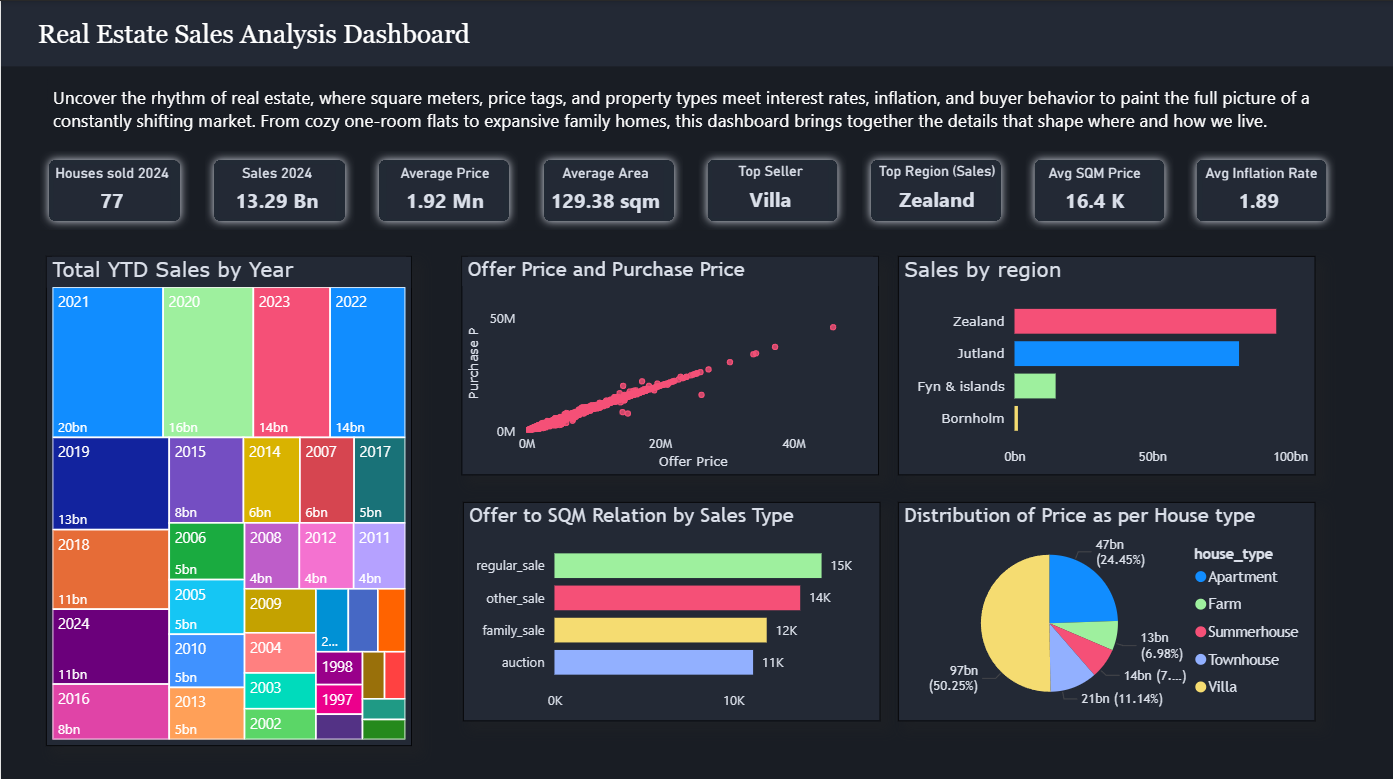

The page's visual inventory and layout, read from the dashboard file:
{"tool":"powerbi","page":{"name":"Dashboard","canvas":[1280,720],"ordinal":0},"visuals":[{"type":"scatterChart","title":"Offer Price and Purchase Price","fields":{"X":["Housing Data.Offer Price"],"Y":["Housing Data.purchase_price"]},"box":[422.5,234.7,383.1,201.4],"z":0},{"type":"shape","box":[0,0,1280,60],"z":2000},{"type":"textbox","box":[42.4,71.2,1197.7,66.6],"z":3000},{"type":"shape","box":[36.3,137.8,1196,72.7],"z":4000},{"type":"shape","box":[36.3,137.8,151,72.7],"z":5000},{"type":"shape","box":[187.8,137.8,151,72.7],"z":6000},{"type":"shape","box":[339.2,137.8,149.9,72.7],"z":7000},{"type":"shape","box":[490.6,137.8,149.9,72.7],"z":8000},{"type":"shape","box":[640.5,137.8,149.9,72.7],"z":9000},{"type":"shape","box":[790.4,137.8,149.9,72.7],"z":10000},{"type":"shape","box":[940.3,137.8,149.9,72.7],"z":11000},{"type":"shape","box":[1090.2,137.8,149.9,72.7],"z":12000},{"type":"textbox","title":"Houses sold 2024","box":[48.5,149.9,107.5,50],"z":13000},{"type":"textbox","title":"Sales 2024","box":[199.9,149.9,107.5,50],"z":14000},{"type":"textbox","title":"Average Price","box":[353.8,150,107.5,50],"z":15000},{"type":"textbox","title":"Average Area","box":[501.2,150,107.5,50],"z":16000},{"type":"textbox","title":"Top Seller","box":[652.5,148.8,107.5,50],"z":17000},{"type":"textbox","title":"Top Region (Sales)","box":[805,148.3,110,50],"z":18000},{"type":"textbox","title":"Avg SQM Price","box":[951.7,150,105,50],"z":19000},{"type":"textbox","title":"Avg Inflation Rate","box":[1103.3,150,108.3,50],"z":20000},{"type":"treemap","fields":{"Group":["Housing Data.date.Variation.Date Hierarchy.Year","Housing Data.date.Variation.Date Hierarchy.Quarter","Housing Data.date.Variation.Date Hierarchy.Month","Housing Data.date.Variation.Date Hierarchy.Day"],"Values":["Measures Table 1.Total YTD Sales"]},"box":[42,234,336,450],"z":21000},{"type":"barChart","title":"Sales by region","fields":{"Y":["Measures Table 1.Sales by region"],"Category":["Housing Data.region"]},"box":[823.7,234.7,383.1,201.4],"z":22000},{"type":"barChart","title":"Offer to SQM Relation by Sales Type","fields":{"Y":["Measures Table 1.Offer to SQM Relation"],"Category":["Housing Data.sales_type"]},"box":[424,460.3,383.1,201.4],"z":23000},{"type":"pieChart","title":"Distribution of Price as per House type","fields":{"Series":["Housing Data.house_type"],"Y":["Sum(Housing Data.purchase_price)"]},"box":[823.7,460.3,383.1,201.4],"z":24000}]}

Visuals, with their boxes in screenshot pixels (x1, y1, x2, y2), scaled from the page's 1280x720 canvas onto the 1393x779 screenshot:
"Offer Price and Purchase Price" scatterChart: x1=460 y1=254 x2=877 y2=472
shape: x1=0 y1=0 x2=1392 y2=65
textbox: x1=46 y1=77 x2=1350 y2=149
shape: x1=40 y1=149 x2=1341 y2=228
shape: x1=40 y1=149 x2=204 y2=228
shape: x1=204 y1=149 x2=369 y2=228
shape: x1=369 y1=149 x2=532 y2=228
shape: x1=534 y1=149 x2=697 y2=228
shape: x1=697 y1=149 x2=860 y2=228
shape: x1=860 y1=149 x2=1023 y2=228
shape: x1=1023 y1=149 x2=1186 y2=228
shape: x1=1186 y1=149 x2=1350 y2=228
"Houses sold 2024" textbox: x1=53 y1=162 x2=170 y2=216
"Sales 2024" textbox: x1=218 y1=162 x2=335 y2=216
"Average Price" textbox: x1=385 y1=162 x2=502 y2=216
"Average Area" textbox: x1=545 y1=162 x2=662 y2=216
"Top Seller" textbox: x1=710 y1=161 x2=827 y2=215
"Top Region (Sales)" textbox: x1=876 y1=160 x2=996 y2=215
"Avg SQM Price" textbox: x1=1036 y1=162 x2=1150 y2=216
"Avg Inflation Rate" textbox: x1=1201 y1=162 x2=1319 y2=216
treemap - Housing Data.date.Variation.Date Hierarchy.Year x Housing Data.date.Variation.Date Hierarchy.Quarter: x1=46 y1=253 x2=411 y2=740
"Sales by region" barChart: x1=896 y1=254 x2=1313 y2=472
"Offer to SQM Relation by Sales Type" barChart: x1=461 y1=498 x2=878 y2=716
"Distribution of Price as per House type" pieChart: x1=896 y1=498 x2=1313 y2=716
